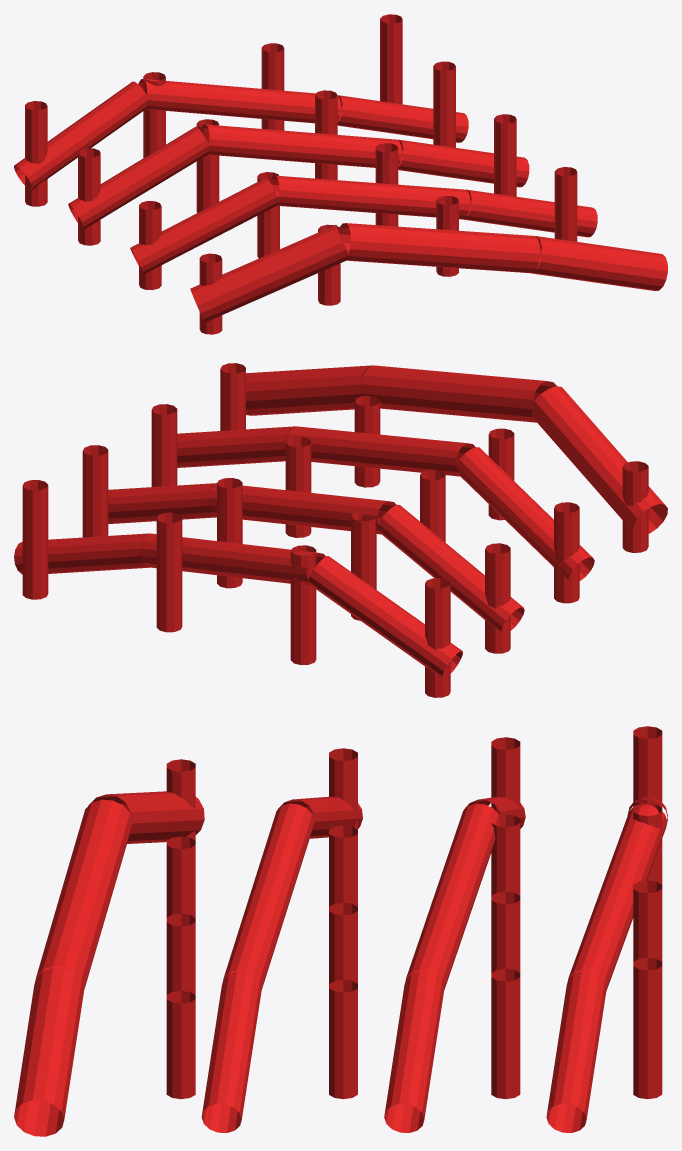
The model's file is 25_left_inlet_fences_x4.glb.
3 renders of one model, top to bottom at view 1: azimuth 30°, elevation 25°; view 2: azimuth 150°, elevation 25°; view 3: azimuth 270°, elevation 25°, orthographic. The views are drawn at different scales.
Parts seen in each view (by area): view 1: 25_left_inlet_fences_x4; view 2: 25_left_inlet_fences_x4; view 3: 25_left_inlet_fences_x4.
Part boxes in pixels (x1,y1,x2,y2): 25_left_inlet_fences_x4: [14, 14, 667, 334]; 25_left_inlet_fences_x4: [14, 363, 667, 697]; 25_left_inlet_fences_x4: [14, 726, 667, 1136].
Size of the model in its own units: 32.05 by 8.35 by 32.24.
